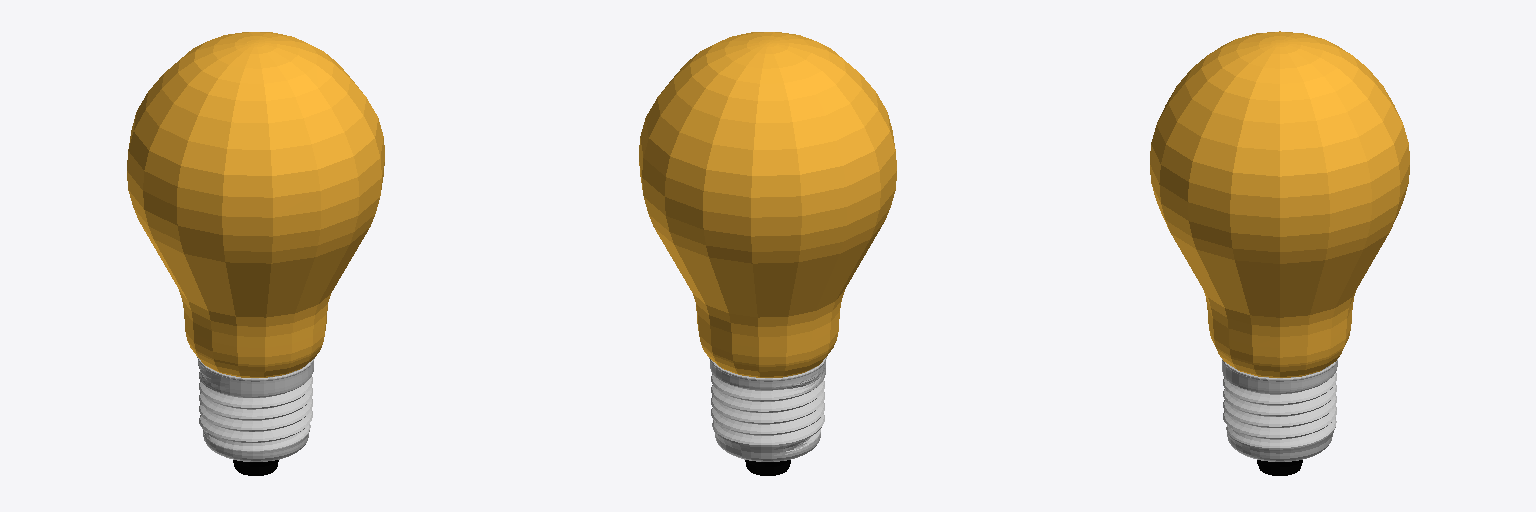
Rendered from lamp.obj.
The picture shows the model from 3 angles: view 1: azimuth 30°, elevation 25°; view 2: azimuth 150°, elevation 25°; view 3: azimuth 270°, elevation 25°; orthographic projection.
Visible parts, largest first — view 1: Ampoule_Bulbe_Mesh.004, Ampoule_Culot_Mesh.001, Ampoule_Plot_Mesh.002; view 2: Ampoule_Bulbe_Mesh.004, Ampoule_Culot_Mesh.001, Ampoule_Plot_Mesh.002; view 3: Ampoule_Bulbe_Mesh.004, Ampoule_Culot_Mesh.001, Ampoule_Plot_Mesh.002.
Part boxes in pixels (x1,y1,x2,y2): Ampoule_Bulbe_Mesh.004: (127,32,384,377); Ampoule_Culot_Mesh.001: (197,357,314,461); Ampoule_Plot_Mesh.002: (233,460,278,475); Ampoule_Bulbe_Mesh.004: (639,32,896,377); Ampoule_Culot_Mesh.001: (709,357,826,461); Ampoule_Plot_Mesh.002: (745,460,790,475); Ampoule_Bulbe_Mesh.004: (1150,31,1409,377); Ampoule_Culot_Mesh.001: (1222,359,1337,461); Ampoule_Plot_Mesh.002: (1257,460,1302,475).
Size of the model in its own units: 0.0501 by 0.0902 by 0.0501.